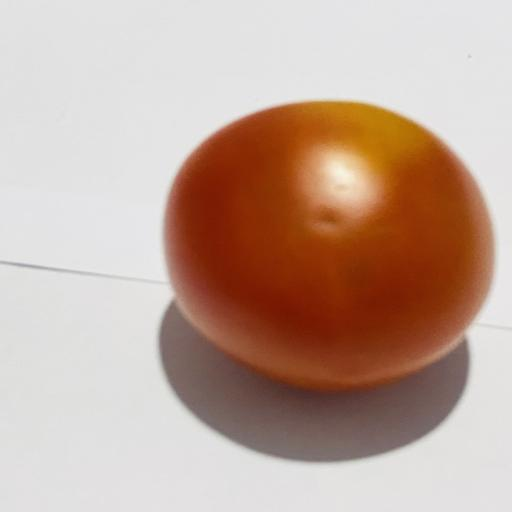ripe: (165, 101, 494, 390)
